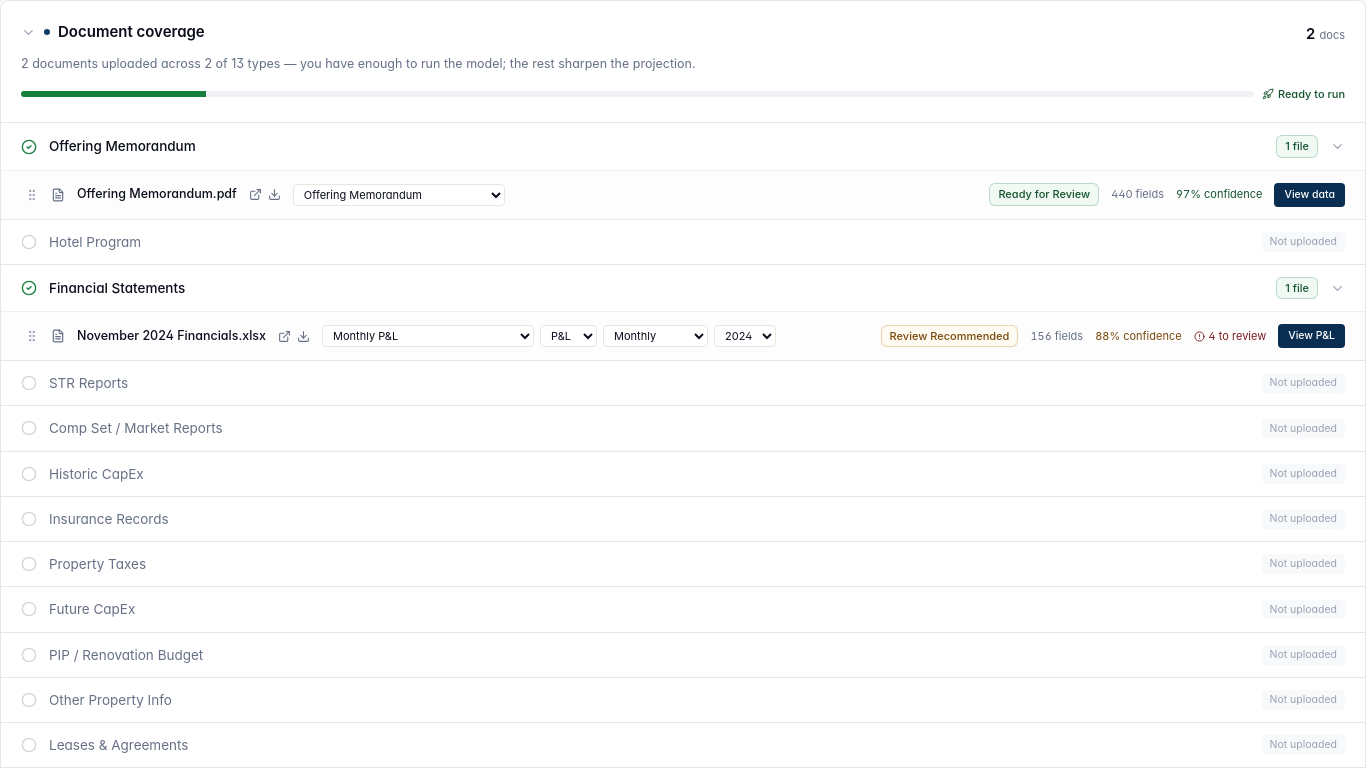
Test: Data Room — document coverage card › collapses the whole card from the header chevron
Expected: the text "Offering Memorandum" is shown, [49, 138, 196, 154]
Click the button "Document coverage 2docs": (131, 32) [21, 21, 1345, 46]
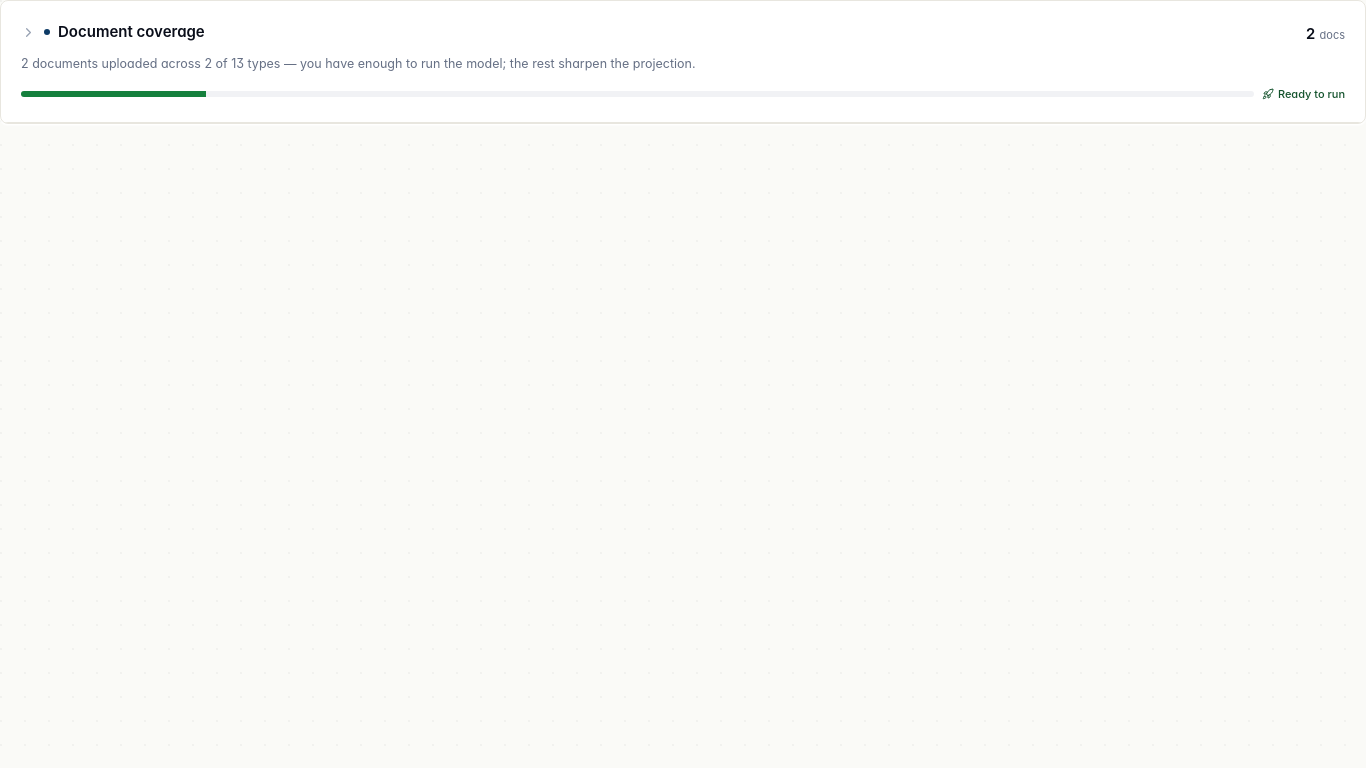
Result: no buttons "Offering Memorandum" are shown
